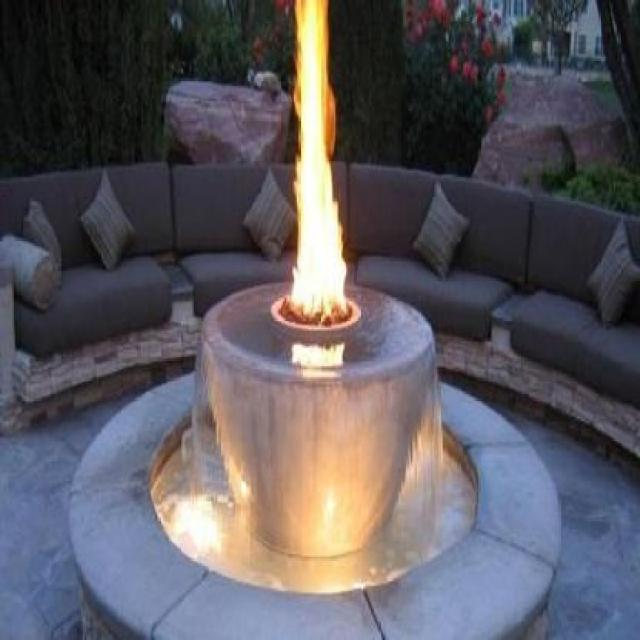Fire: (291, 0, 355, 323)
